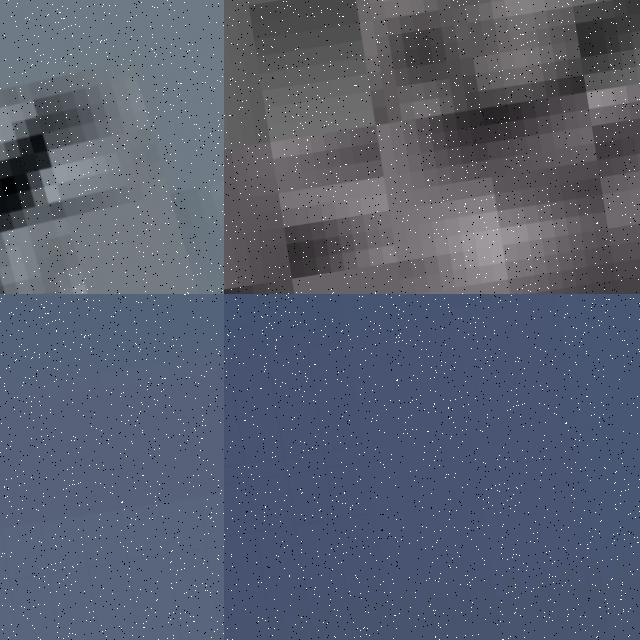drone: (0, 0, 224, 294)
